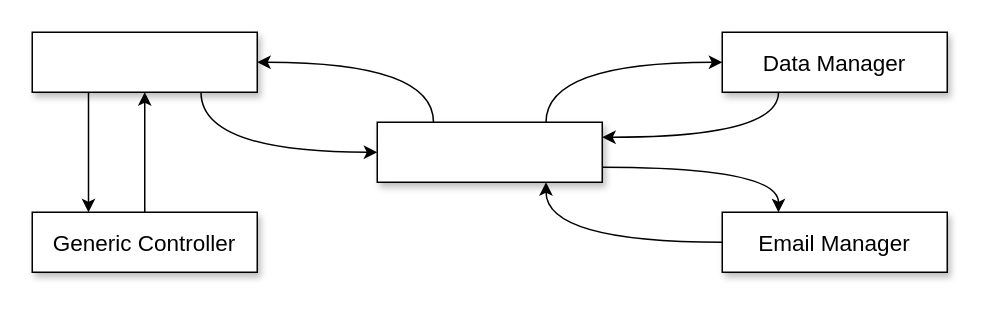
Image size: 983x309. Some labels were removed from this diagram. Each missing label, with the centre of its shape:
"Context Manager" goes at point (490, 154).
"Dashboard Controller" goes at point (145, 64).
